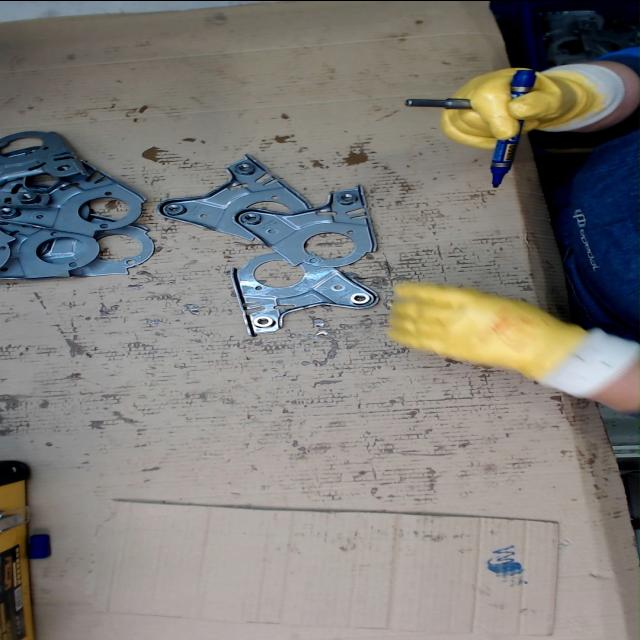hands: (388, 282, 570, 374), (436, 66, 598, 150)
